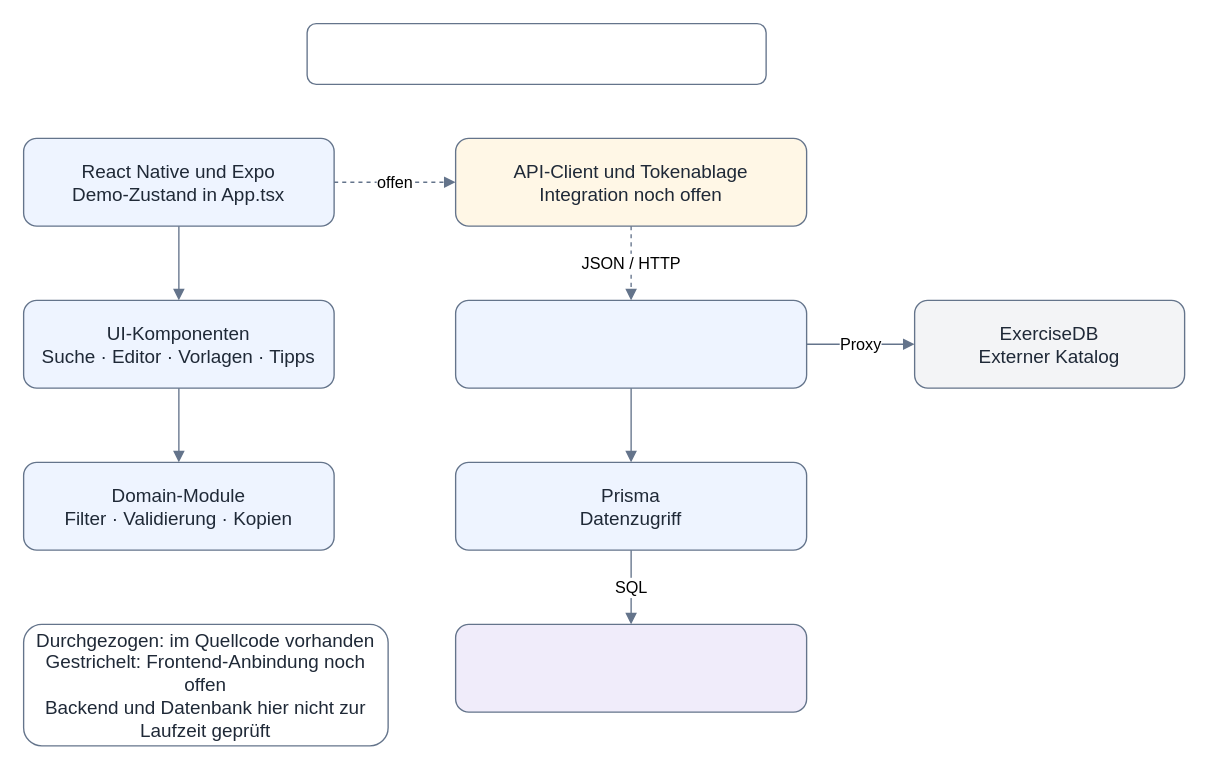
This 1208x770 diagram has some shape labels left out. Each missing label, with the centre of its shape:
Express-Backend Auth · Übungen · Workouts: the point at 630,343
GymBuddy Architektur am 25.11.2026: the point at 536,53
PostgreSQL bei Supabase Schema und Migration vorhanden: the point at 630,667
